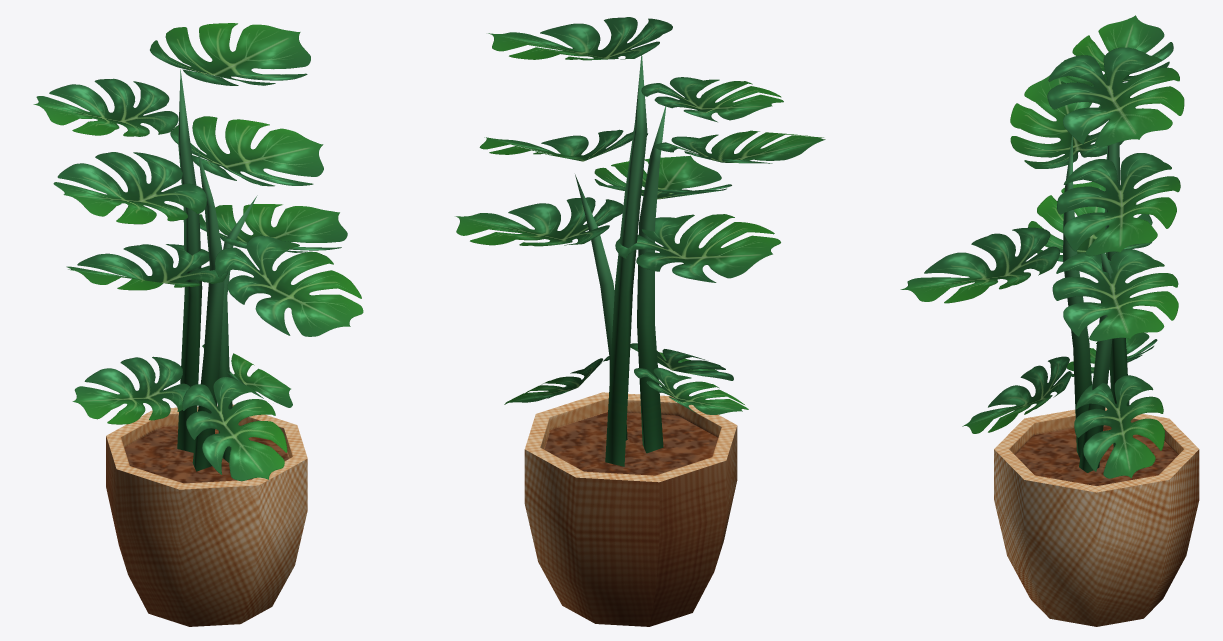
Rendered from corridor_object_plant_3.FBX.
The picture shows the model from 3 angles, left to right: view 1: azimuth 30°, elevation 25°; view 2: azimuth 150°, elevation 25°; view 3: azimuth 270°, elevation 25°; orthographic projection. The views are drawn at different scales.
Visible parts, largest first — view 1: Plane011, Cylinder013; view 2: Cylinder013, Plane011; view 3: Plane011, Cylinder013.
Part boxes in pixels (box(x1,y1,x2,y2)): Plane011: box(33, 23, 363, 481); Cylinder013: box(106, 69, 307, 626); Cylinder013: box(524, 55, 737, 626); Plane011: box(455, 17, 825, 414); Plane011: box(900, 15, 1184, 478); Cylinder013: box(994, 119, 1199, 626).
Size of the model in its own units: 350 by 547 by 298.
Materials: 2 (2 with a texture image).
